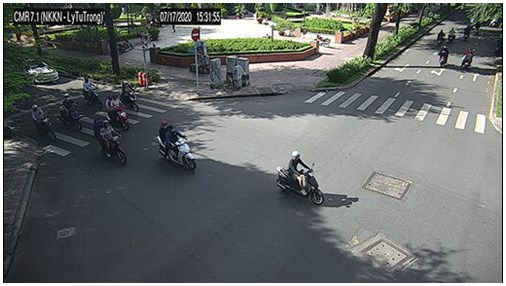xe_hoi: (27, 60, 58, 81)
xe_may: (277, 150, 324, 206), (158, 121, 197, 171), (93, 117, 128, 166), (31, 105, 56, 142), (58, 93, 82, 129), (104, 93, 129, 127), (119, 79, 140, 112), (82, 75, 103, 107), (461, 48, 474, 70), (117, 38, 133, 55), (439, 45, 448, 68), (436, 30, 447, 47), (446, 27, 456, 44), (463, 23, 472, 41)
